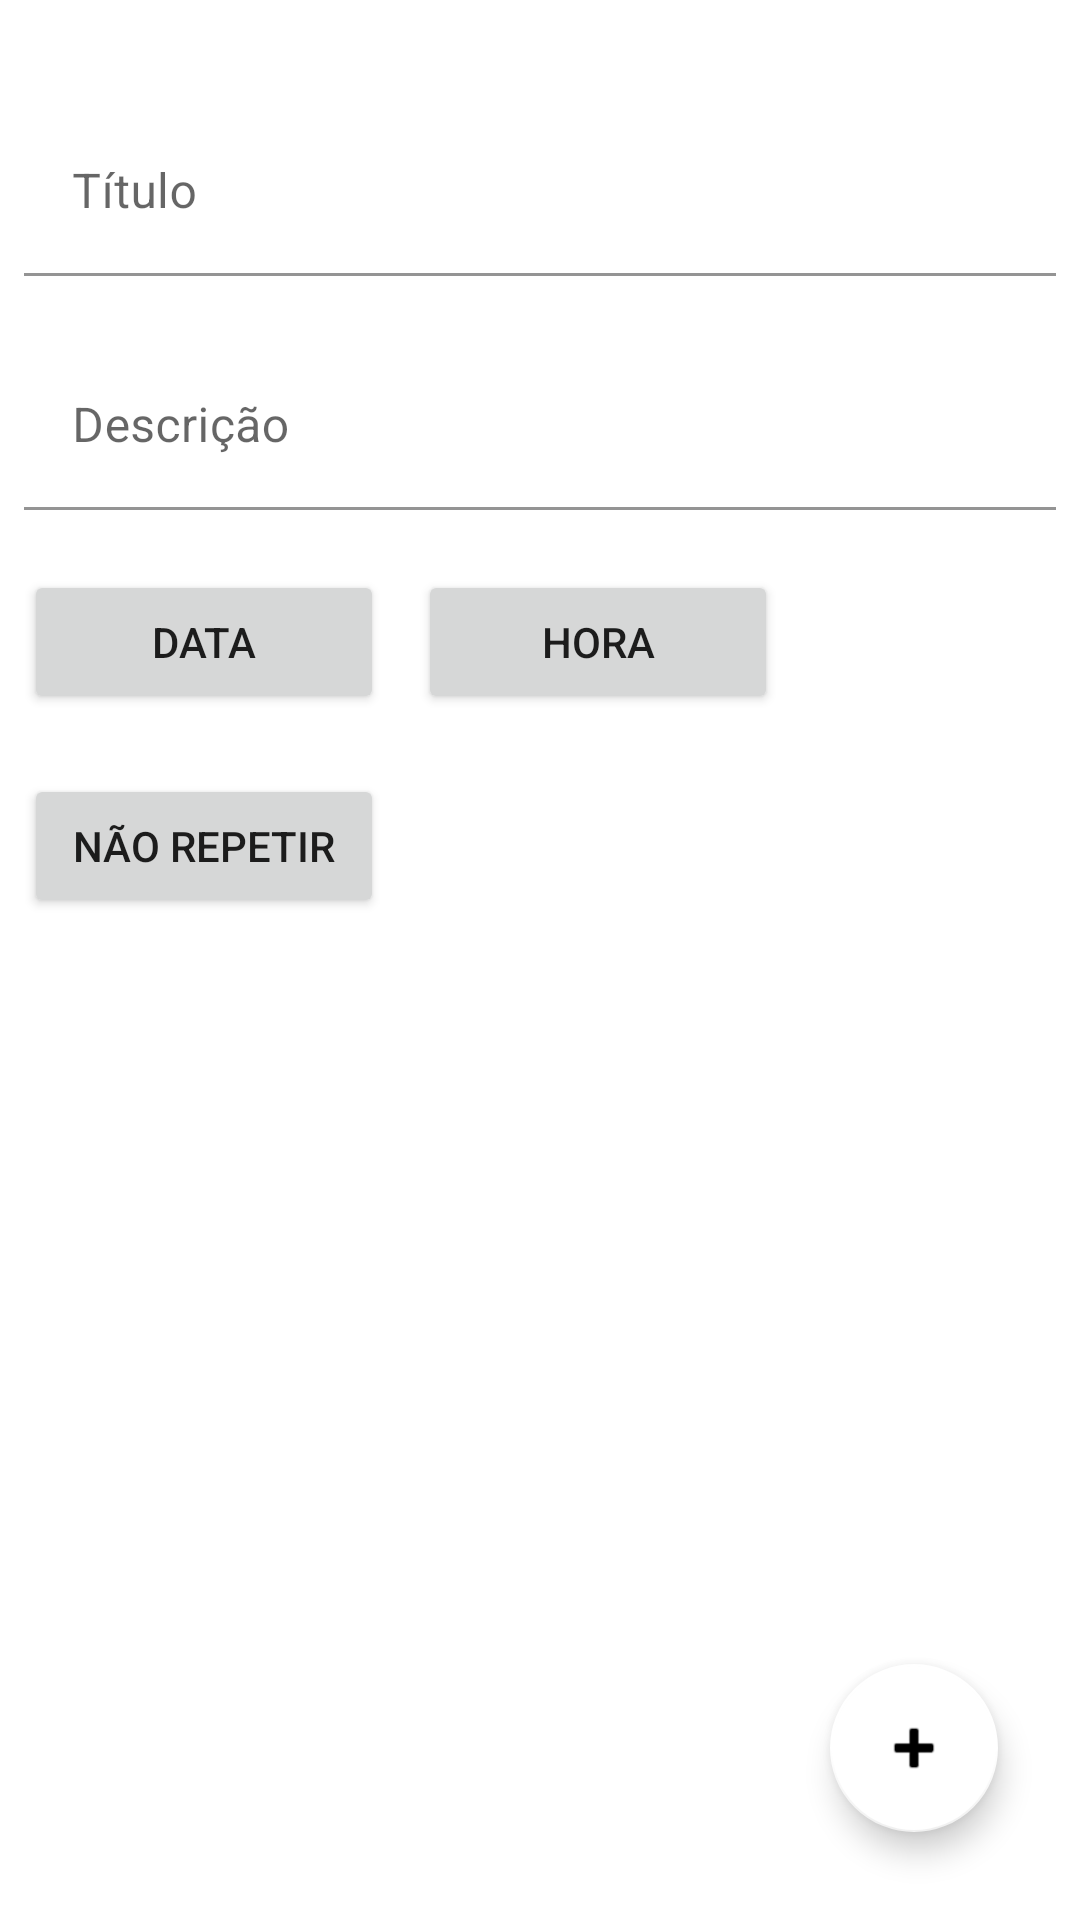

Where to tap for icons on this 1080×1920 app screen, as [x,y]:
add: [916,1780]
